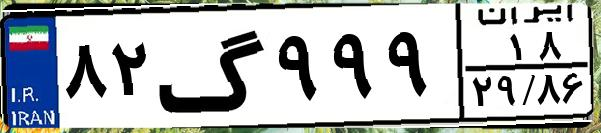1: (508, 27, 537, 80)
2: (110, 28, 156, 98), (470, 70, 495, 125)
6: (560, 70, 590, 125)
8: (57, 26, 110, 100), (537, 27, 568, 80), (535, 70, 560, 125)
9: (270, 28, 330, 110), (385, 28, 445, 110), (330, 28, 385, 110), (495, 70, 520, 125)
گ: (156, 12, 270, 120)
